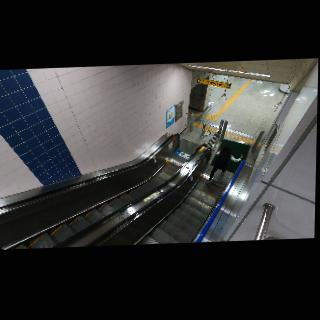normal: (206, 144, 247, 185)
